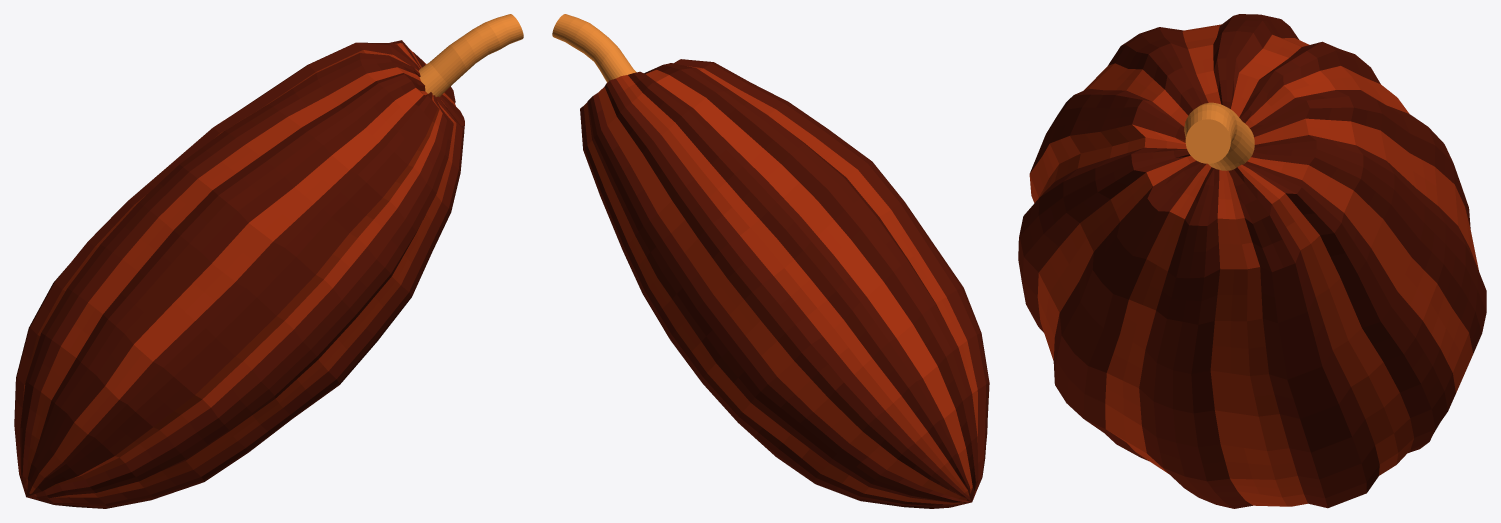
Rendered from cacao.fbx.
3 renders of one model, left to right at view 1: azimuth 30°, elevation 25°; view 2: azimuth 150°, elevation 25°; view 3: azimuth 270°, elevation 25°, orthographic. The views are drawn at different scales.
Visible parts, largest first — view 1: Cacao; view 2: Cacao; view 3: Cacao.
Boxes of the visible parts, bbox=[...] form: Cacao: bbox=[14, 14, 523, 508]; Cacao: bbox=[552, 14, 989, 508]; Cacao: bbox=[1018, 14, 1486, 508].
Size of the model in its own units: 170 by 140 by 90.59.
